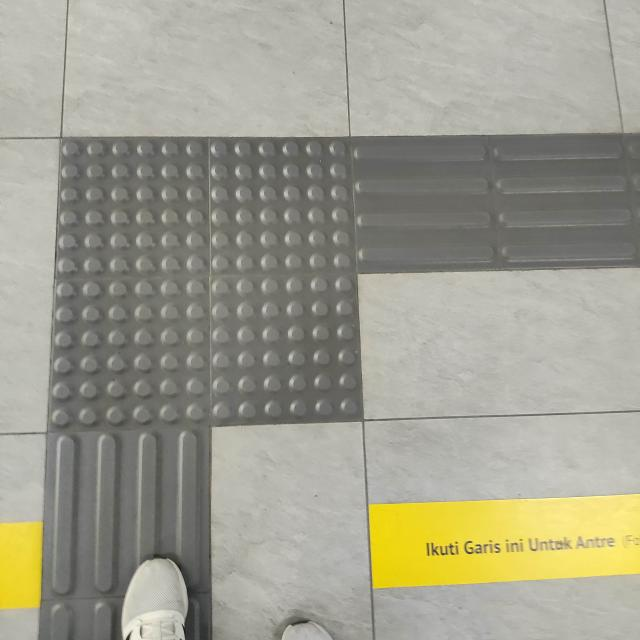kanan: (0, 92, 640, 498)
